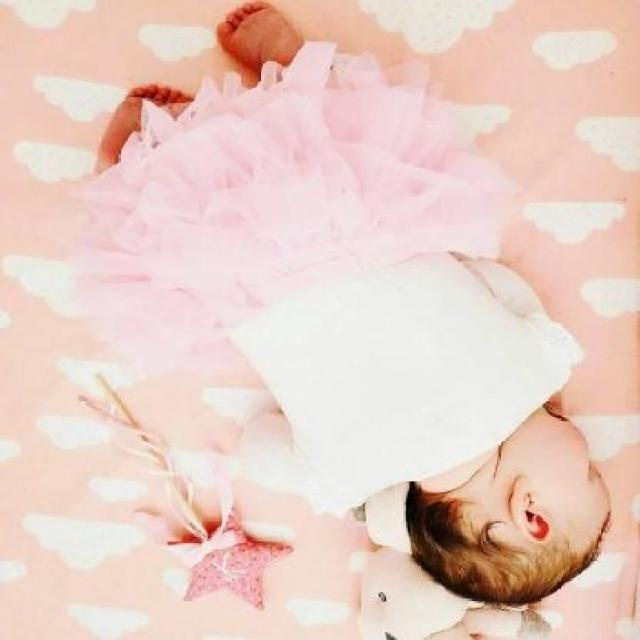baby: (94, 6, 611, 608)
